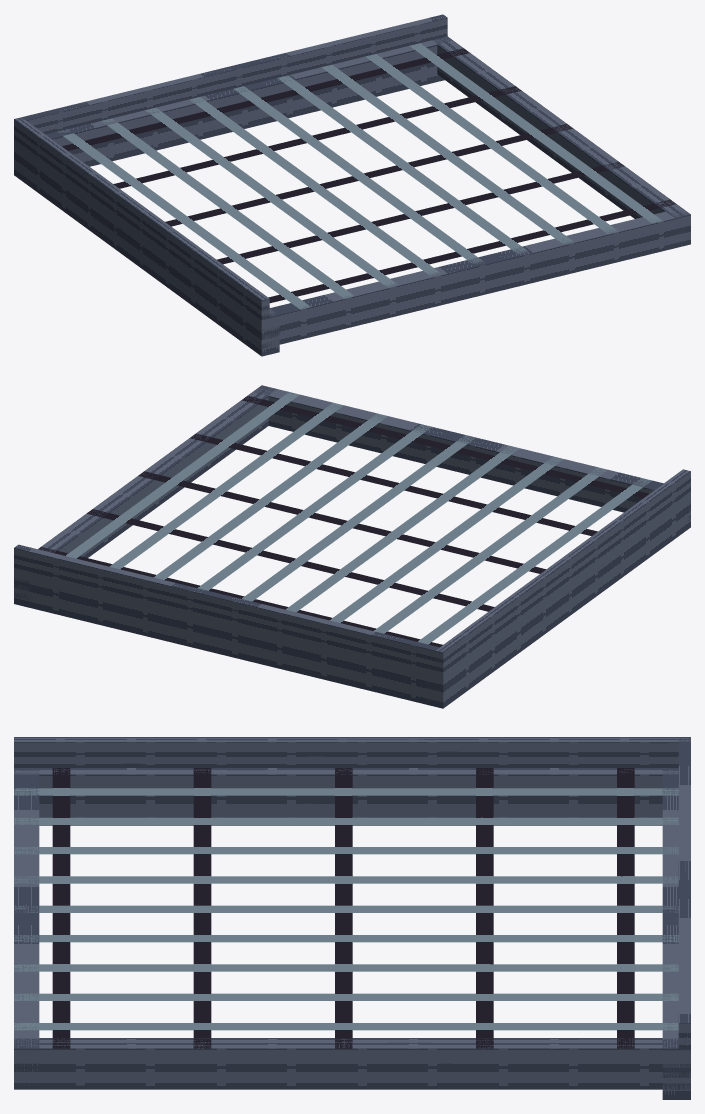
File: IND-05_Pasarela_esquina.gltf
3 renders of one model, top to bottom at view 1: azimuth 30°, elevation 25°; view 2: azimuth 150°, elevation 25°; view 3: azimuth 270°, elevation 25°, orthographic. The views are drawn at different scales.
Parts seen in each view (by area): view 1: IND-05_Pasarela_esquina-col; view 2: IND-05_Pasarela_esquina-col; view 3: IND-05_Pasarela_esquina-col.
Part boxes in pixels (x1,y1,x2,y2): IND-05_Pasarela_esquina-col: (14, 14, 690, 356); IND-05_Pasarela_esquina-col: (14, 385, 690, 708); IND-05_Pasarela_esquina-col: (14, 737, 690, 1099).
Bounding box in the file's own units: 1.2 × 0.15 × 1.2.
1 material, 1 textured.
